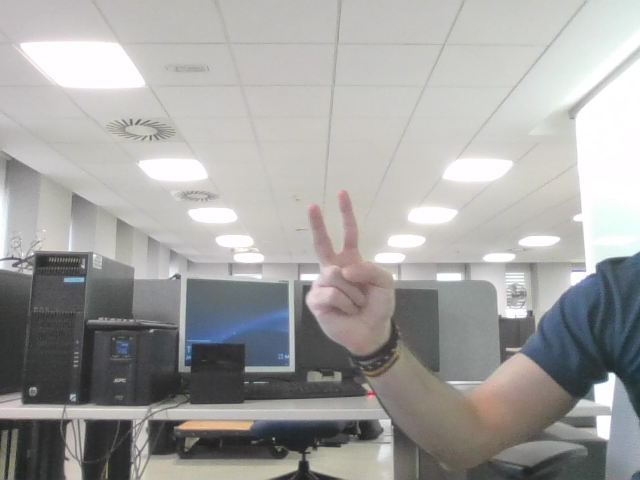2Dedos: (317, 203, 381, 304)
